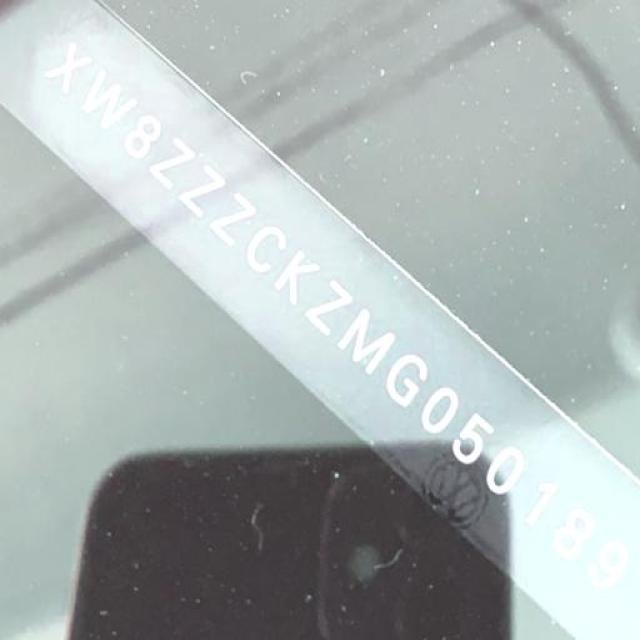0: (468, 435, 532, 511), (407, 374, 467, 450)
1: (504, 471, 563, 539)
5: (442, 407, 500, 481)
8: (538, 497, 602, 571), (111, 101, 172, 168)
9: (578, 529, 638, 600)
C: (230, 216, 296, 285)
G: (373, 345, 437, 423)
K: (327, 301, 402, 385), (262, 243, 328, 311)
W: (68, 64, 142, 142)
X: (34, 31, 99, 101)
Z: (293, 271, 359, 347), (169, 156, 236, 230), (141, 127, 203, 198), (205, 189, 264, 258)
